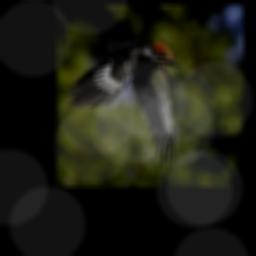Woodpecker: (66, 38, 180, 175)
